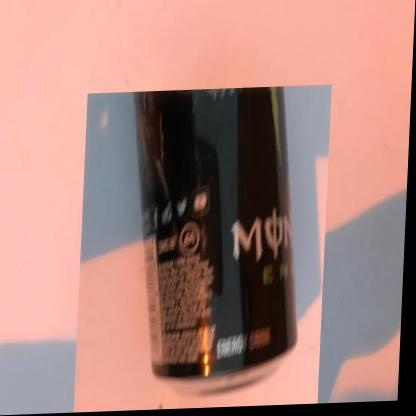trash: (138, 88, 295, 376)
